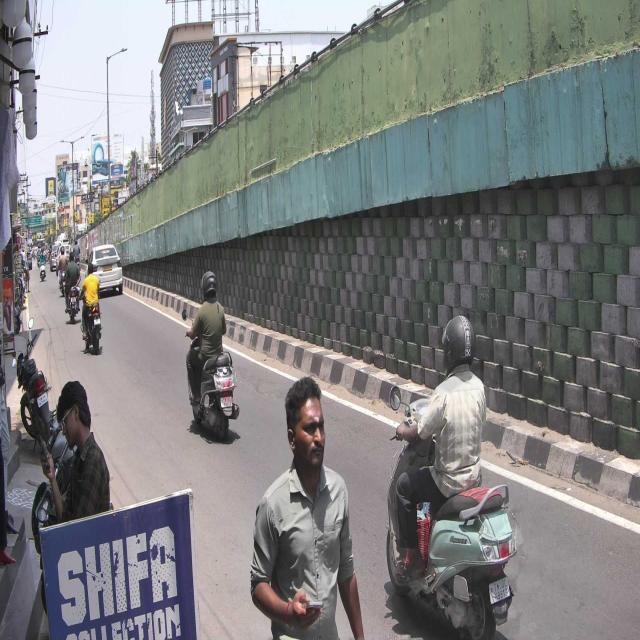single_rider: (385, 314, 520, 640), (181, 270, 242, 441)
